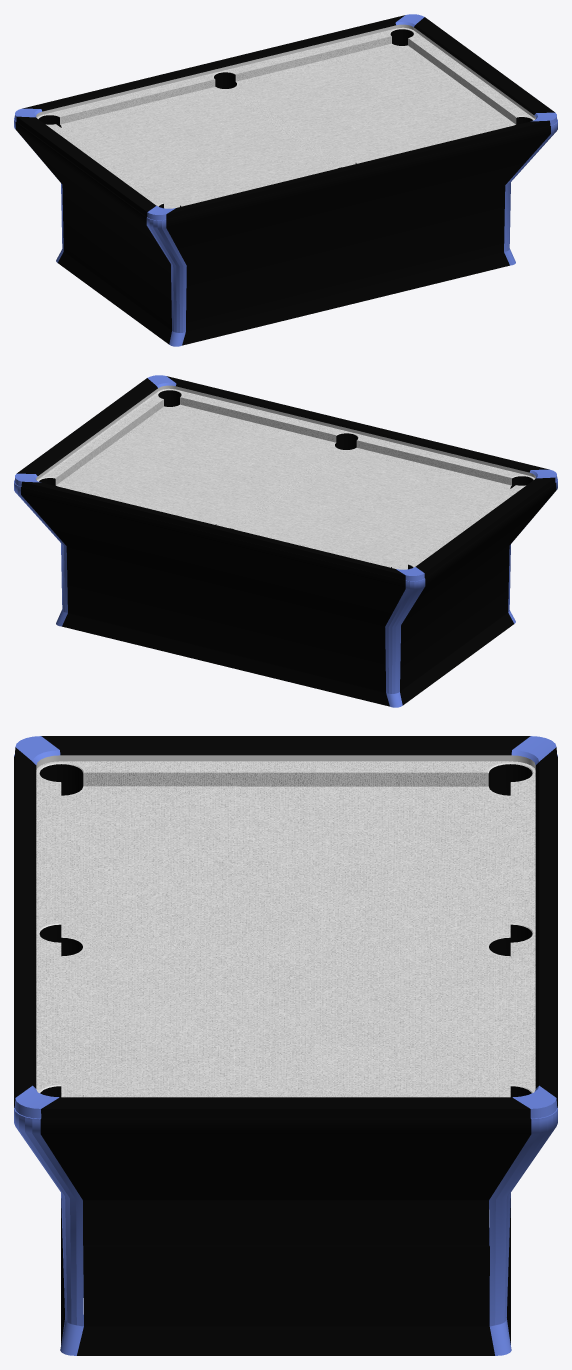
The model's file is Pool_Table.fbx.
The picture shows the model from 3 angles, top to bottom: view 1: azimuth 30°, elevation 25°; view 2: azimuth 150°, elevation 25°; view 3: azimuth 270°, elevation 25°; orthographic projection. The views are drawn at different scales.
Visible parts, largest first — view 1: Pool_Table1; view 2: Pool_Table1; view 3: Pool_Table1.
Part boxes in pixels (box(x1,y1,x2,y2)): Pool_Table1: box(14, 14, 557, 346); Pool_Table1: box(14, 375, 557, 707); Pool_Table1: box(14, 736, 557, 1355).
Size of the model in its own units: 11.1 by 6.82 by 3.82.
9 materials, 1 textured.
